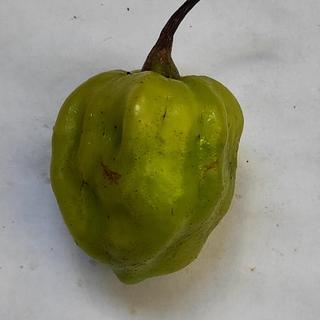Defect: (92, 158, 129, 191), (75, 171, 102, 208)
